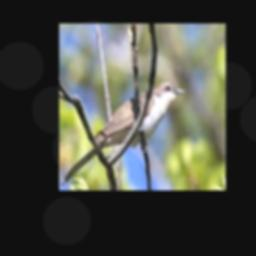Cuckoo: (61, 81, 184, 184)
